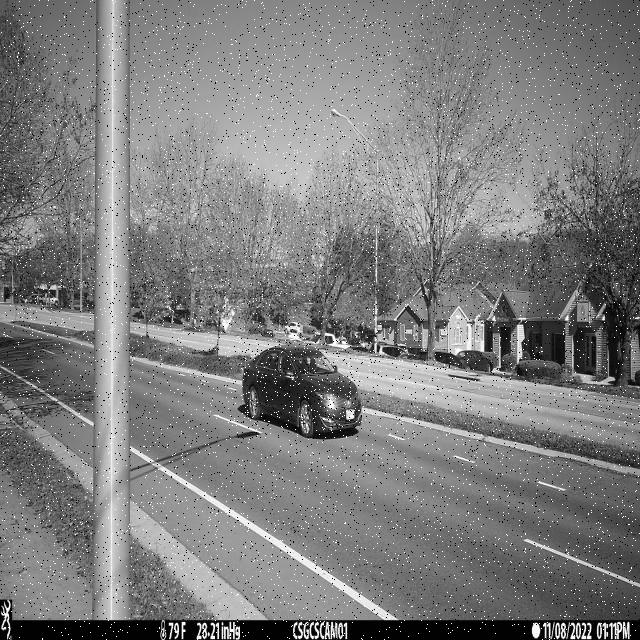Sedan: (241, 341, 362, 439)
